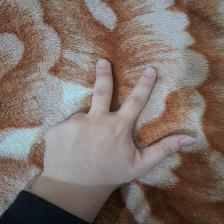three: (46, 54, 200, 190)
